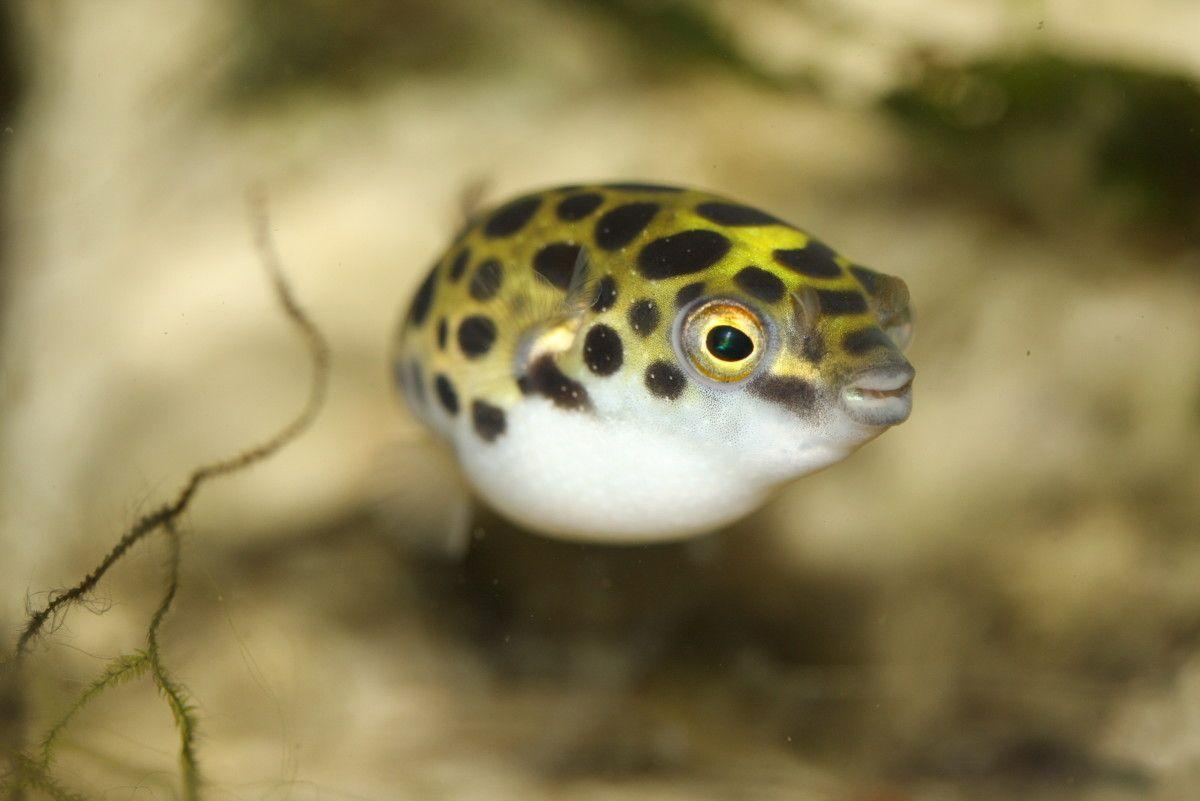Green Spotted Puffer: (399, 176, 918, 546)
